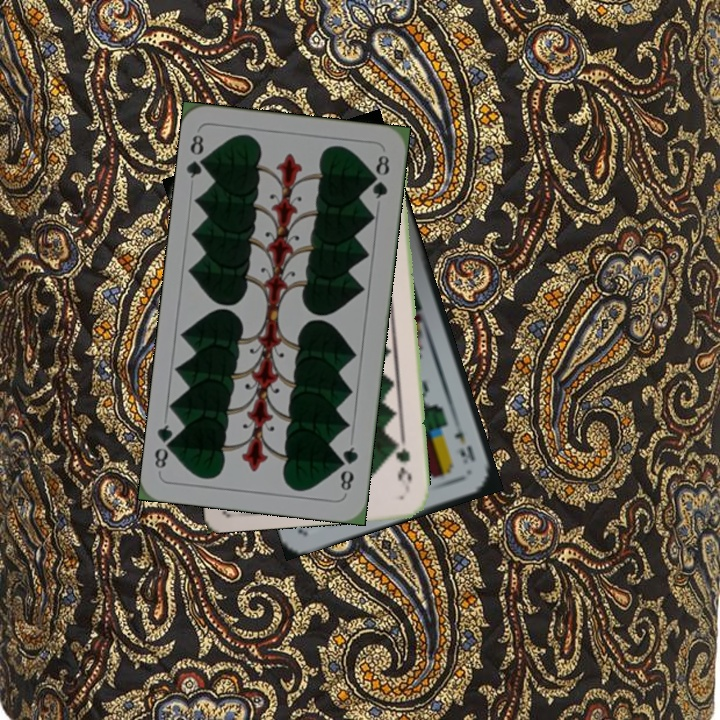EK: (449, 415, 478, 465)
G8: (182, 131, 212, 181), (335, 443, 361, 496)
G9: (391, 434, 414, 485)
